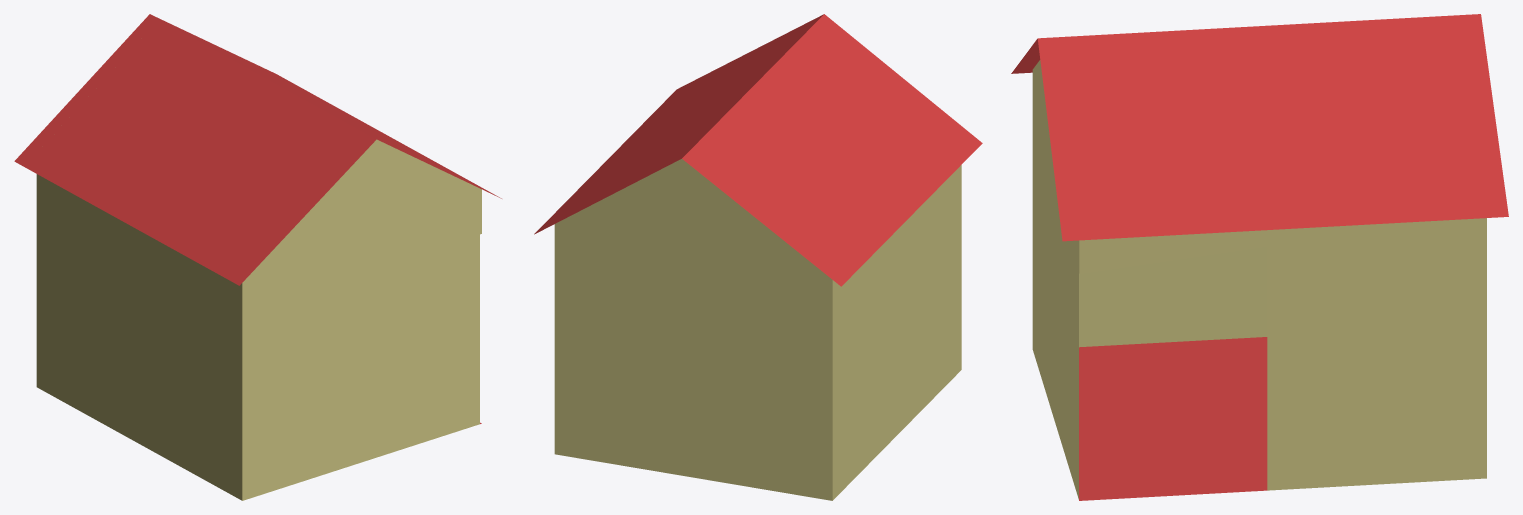
3 renders of one model, left to right at view 1: azimuth 30°, elevation 25°; view 2: azimuth 150°, elevation 25°; view 3: azimuth 270°, elevation 25°, orthographic. The views are drawn at different scales.
Bounding box in the file's own units: 11.71 × 12.86 × 11.14.
